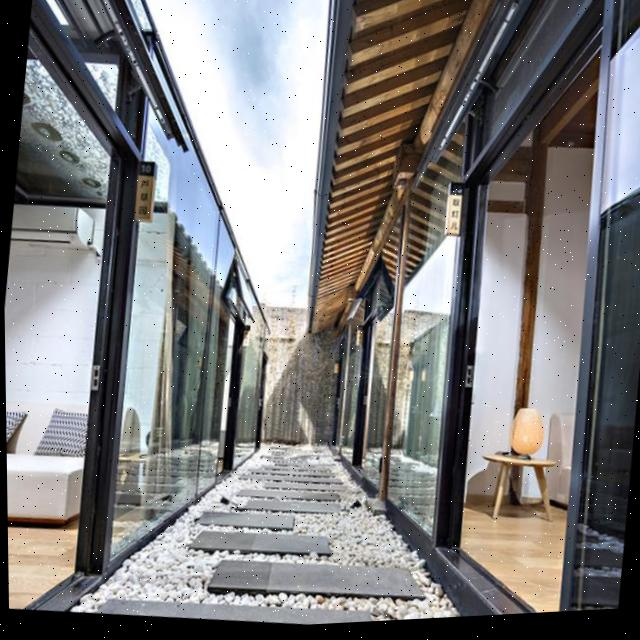building: (262, 0, 640, 626), (0, 0, 315, 633)
